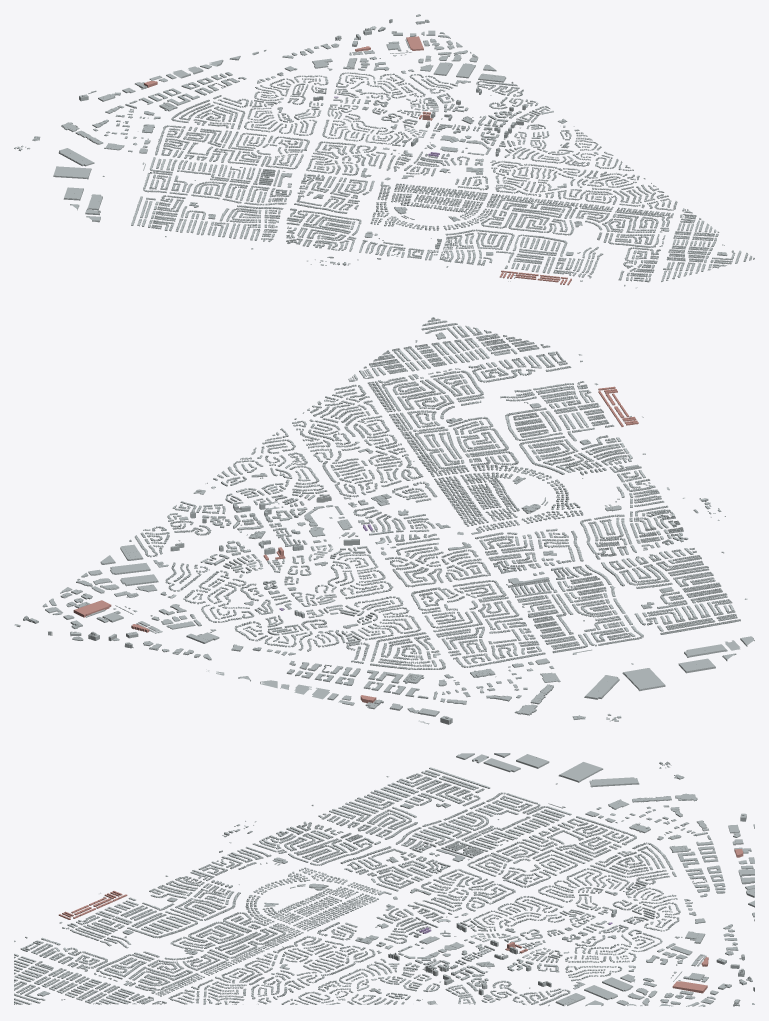
Rendered from lisgar.glb.
3 renders of one model, top to bottom at view 1: azimuth 30°, elevation 25°; view 2: azimuth 150°, elevation 25°; view 3: azimuth 270°, elevation 25°, orthographic. The views are drawn at different scales.
Parts seen in each view (by area): view 1: existing-13, existing-11, existing-12; view 2: existing-13, existing-11, existing-12; view 3: existing-13, existing-11, existing-12.
Part boxes in pixels (x1=…): existing-13: x1=286, y1=14, x2=677, y2=288; existing-11: x1=14, y1=35, x2=341, y2=249; existing-12: x1=661, y1=208, x2=754, y2=281; existing-13: x1=14, y1=351, x2=725, y2=640; existing-11: x1=124, y1=548, x2=754, y2=724; existing-12: x1=348, y1=317, x2=550, y2=381; existing-13: x1=14, y1=820, x2=754, y2=1006; existing-11: x1=311, y1=753, x2=754, y2=960; existing-12: x1=14, y1=953, x2=166, y2=1004.
Bounding box in the file's own units: 4200 × 65.27 × 5300.
